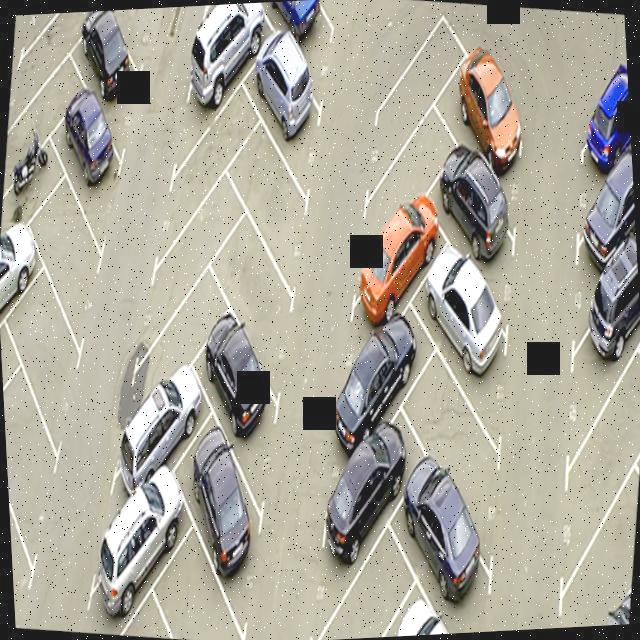car: (388, 458, 508, 636), (86, 448, 198, 638), (308, 308, 434, 464), (177, 394, 273, 598), (310, 417, 416, 595), (550, 219, 640, 428), (110, 348, 215, 523), (192, 292, 292, 470), (424, 256, 528, 426), (339, 192, 442, 356), (432, 144, 534, 296), (564, 113, 640, 314), (50, 76, 140, 228), (62, 8, 162, 134), (247, 24, 335, 165), (439, 52, 534, 180), (178, 2, 268, 134), (570, 33, 634, 194), (0, 119, 74, 258), (0, 215, 45, 355), (266, 0, 345, 33), (540, 608, 630, 629)
free: (534, 334, 640, 599), (405, 350, 523, 536), (135, 228, 252, 398), (366, 15, 472, 174), (0, 260, 99, 428), (210, 208, 308, 372), (153, 153, 253, 305), (27, 177, 118, 342), (358, 113, 462, 256), (0, 37, 93, 195), (164, 70, 262, 219), (547, 475, 640, 628), (155, 506, 261, 640), (307, 524, 419, 640), (233, 120, 314, 268), (2, 370, 76, 524), (15, 11, 106, 105), (6, 451, 48, 628), (86, 8, 170, 48), (0, 327, 19, 455), (206, 2, 284, 20)
